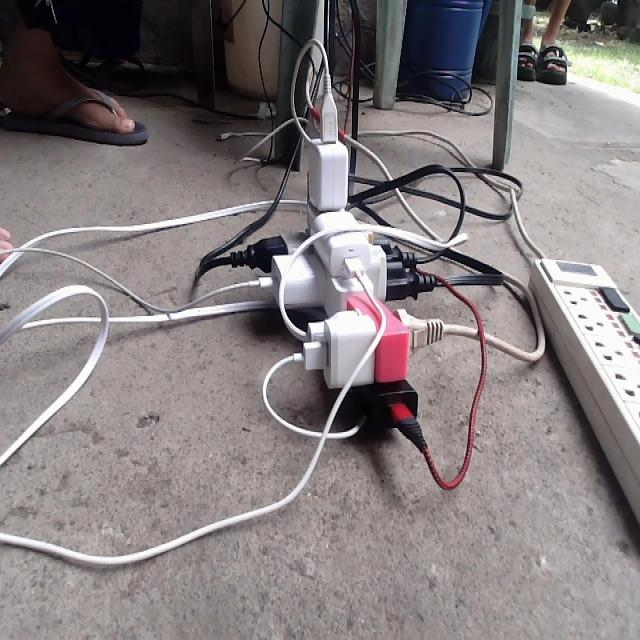-: (226, 68, 445, 453)
